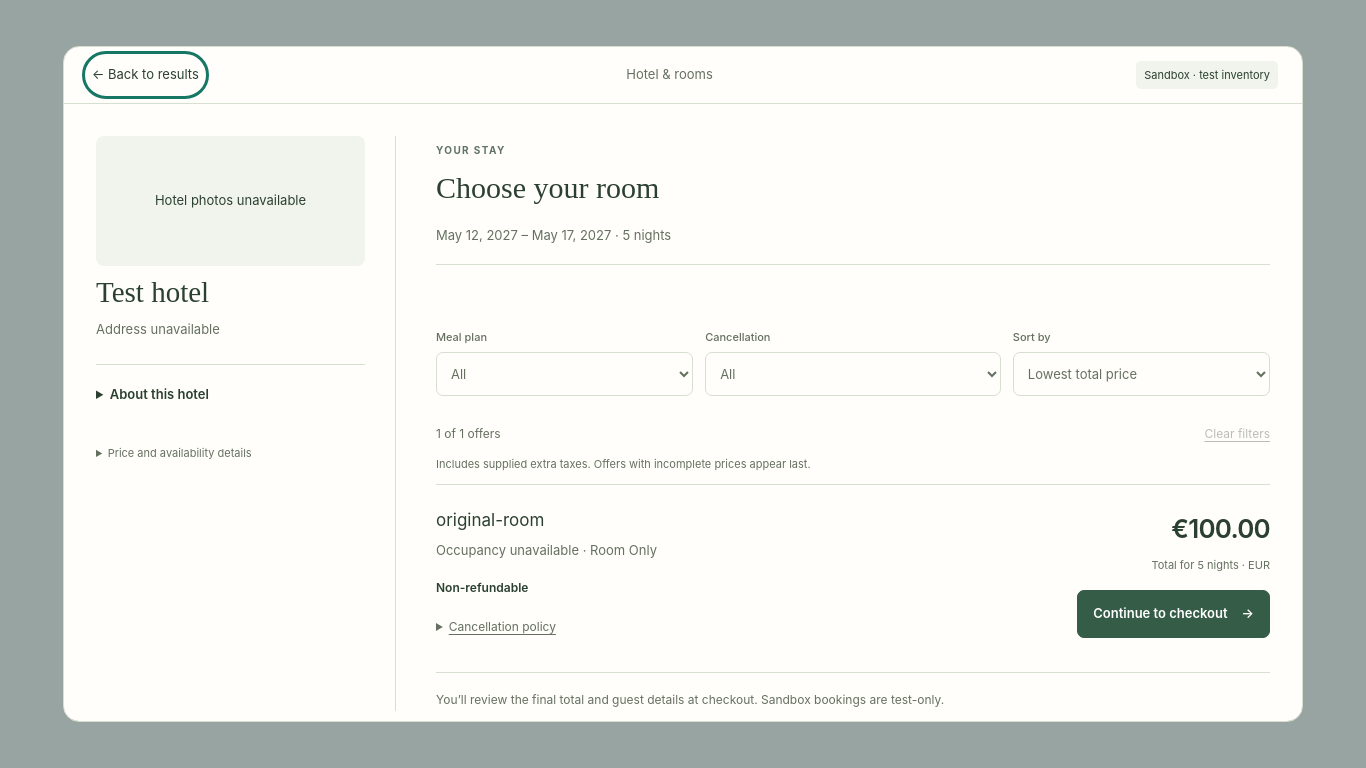
Test: no matching rooms offers a clear reset without pretending provider inventory is empty
Expected: the text "1 of 1 offers" is shown, [436,425,501,443]
Step 1. Select "Refundable" in the dropdown labelled "Cancellation" → coordinates (853, 374), box [705,352,1001,396]
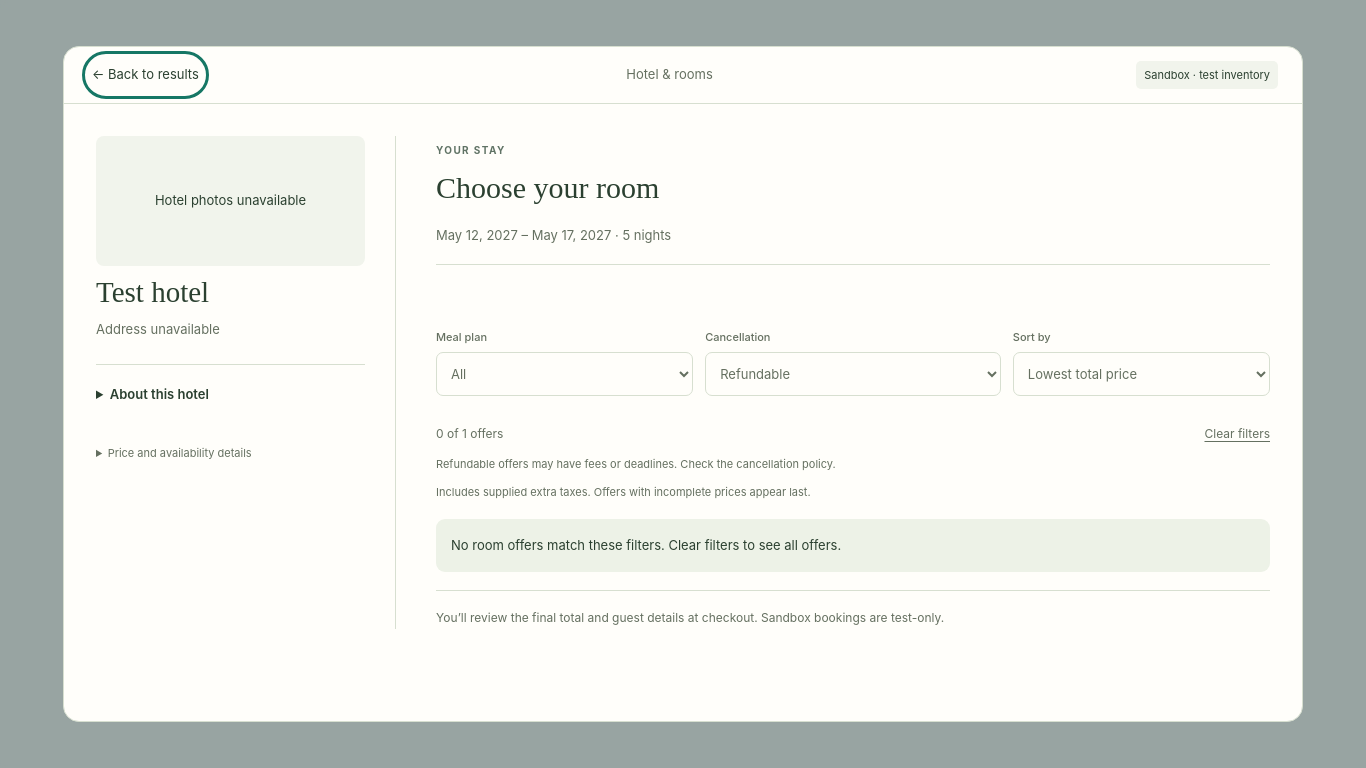
Expected: the text "0 of 1 offers" is shown, [436,425,503,443]
Expected: the text "No room offers match these filters" is shown, [451,537,841,553]
Expected: the button "Continue to checkout" is gone
Step 2. Click the button "Clear filters" → coordinates (1237, 434), box [1204,412,1270,456]
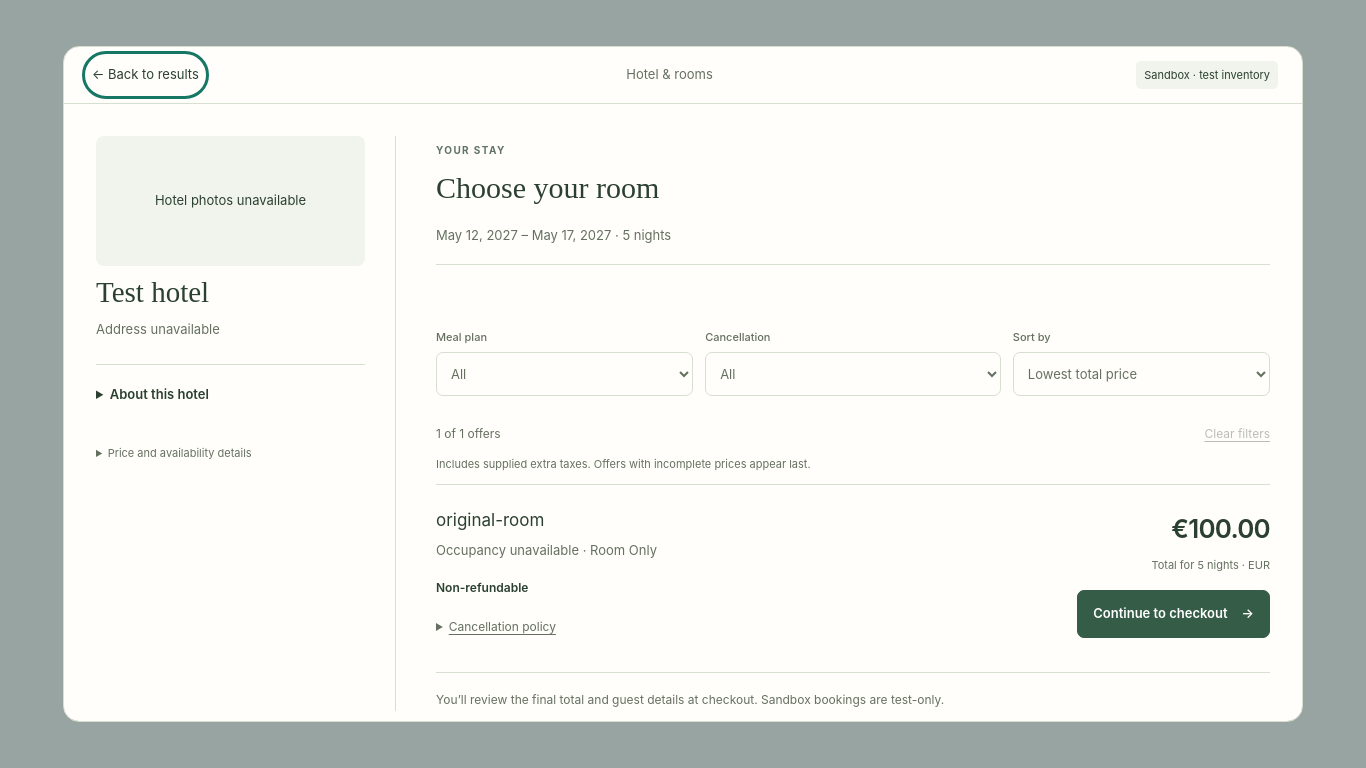
Expected: the text "1 of 1 offers" is shown, [436,425,501,443]
Expected: the button "Continue to checkout →" is shown, [1077,590,1270,638]
